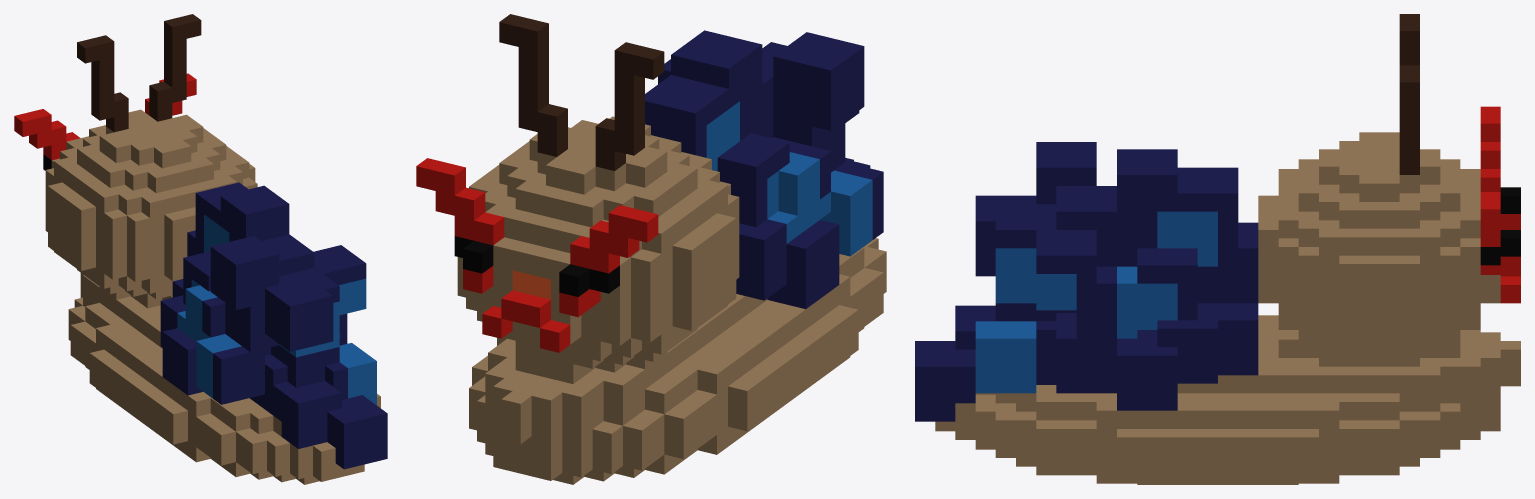
The model's file is Jhanely_Carolina_Pérez_Ramos_fase_3.obj.
3 renders of one model, left to right at view 1: azimuth 30°, elevation 25°; view 2: azimuth 150°, elevation 25°; view 3: azimuth 270°, elevation 25°, orthographic. The views are drawn at different scales.
Visible parts, largest first — view 1: Jhanely_Carolina_Pérez_Ramos_fase_3; view 2: Jhanely_Carolina_Pérez_Ramos_fase_3; view 3: Jhanely_Carolina_Pérez_Ramos_fase_3.
Part boxes in pixels (bbox=[...]): Jhanely_Carolina_Pérez_Ramos_fase_3: bbox=[14, 14, 387, 484]; Jhanely_Carolina_Pérez_Ramos_fase_3: bbox=[416, 14, 886, 484]; Jhanely_Carolina_Pérez_Ramos_fase_3: bbox=[915, 14, 1520, 484].
Size of the model in its own units: 13 by 22 by 30.
1 material, 1 textured.
